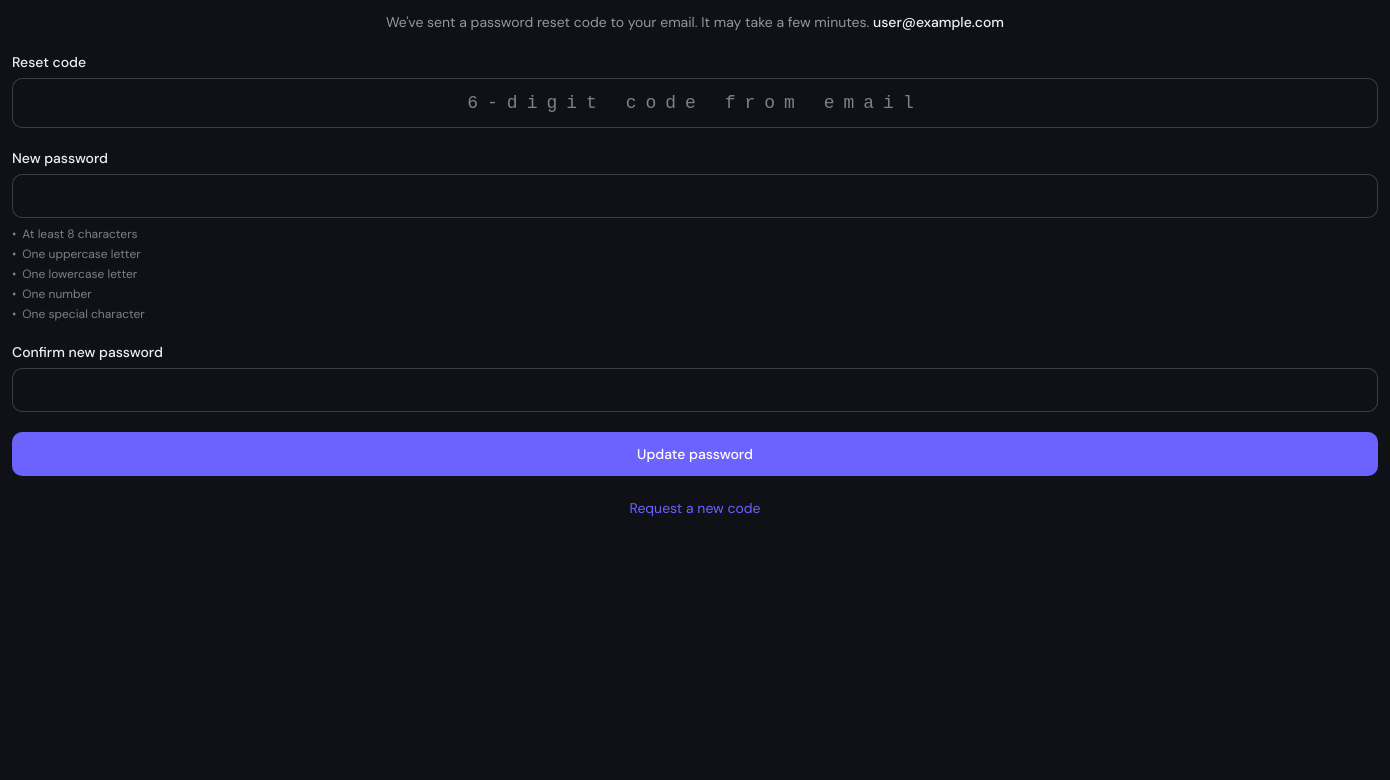
Scenario: ResetPasswordForm › shows client-side error for password mismatch
The width and height of the screenshot is (1390, 780).
Type "123456" into the field labelled "Reset code" at (695, 103), box x1=12 y1=78 x2=1378 y2=128
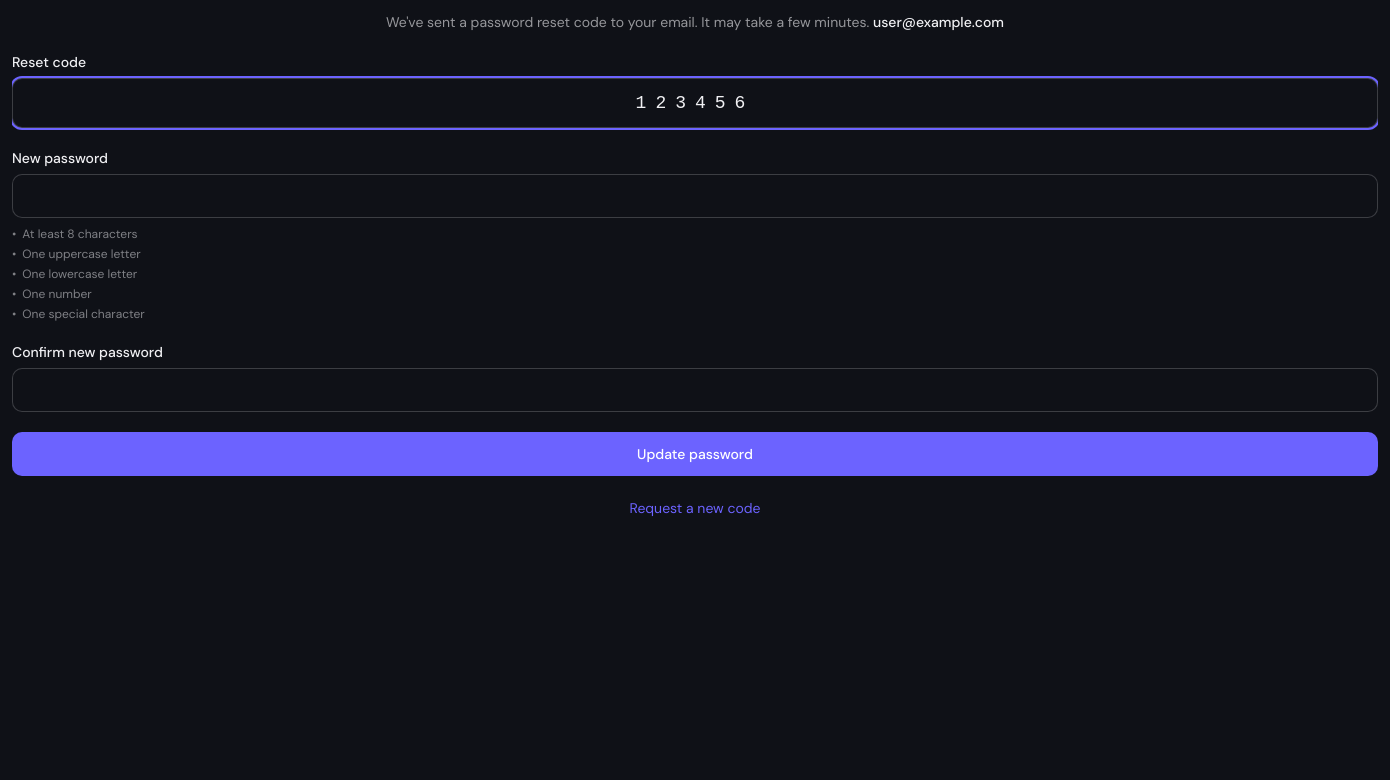
Type "BrandNewPass1!" into the password field labelled "New password" at (695, 196), box x1=12 y1=174 x2=1378 y2=218
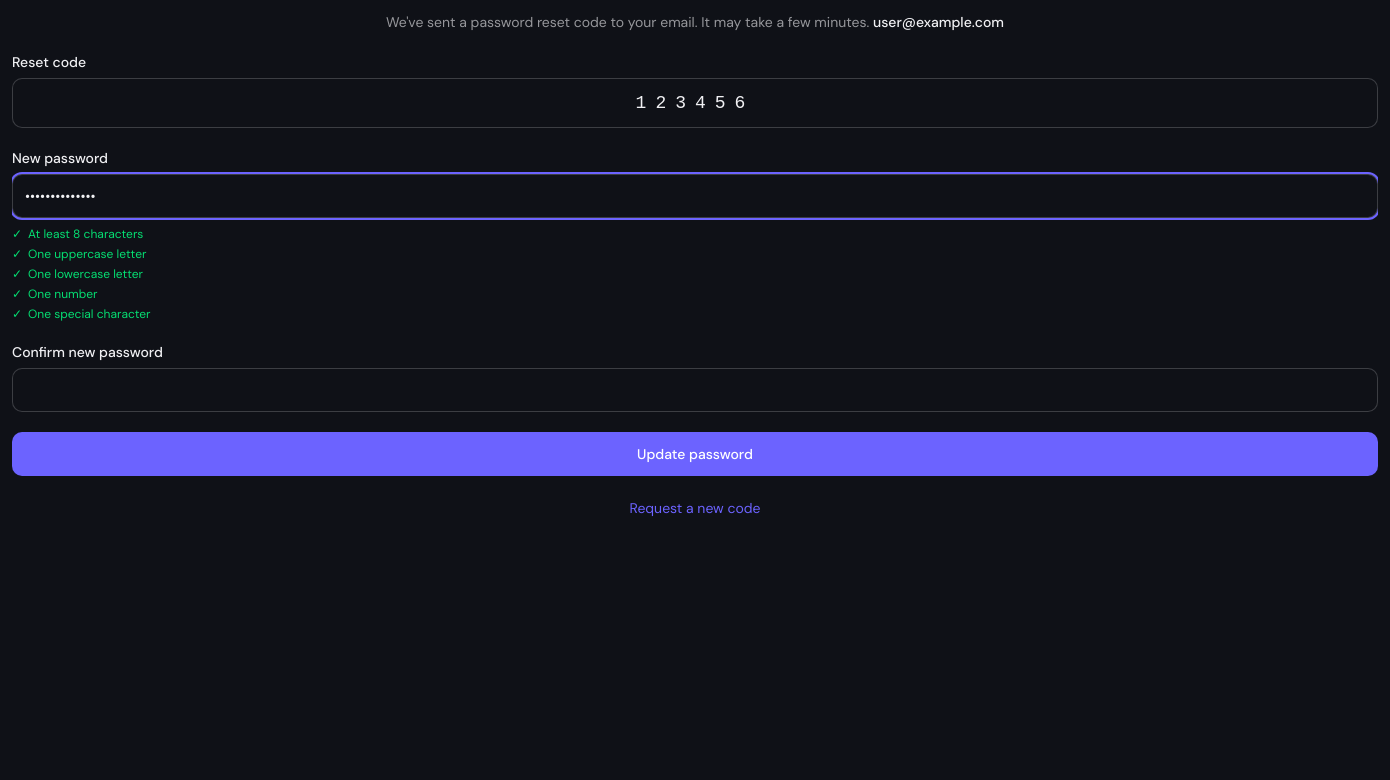
Type "DifferentPass1!" into the password field labelled "Confirm new password" at (695, 390), box x1=12 y1=368 x2=1378 y2=412
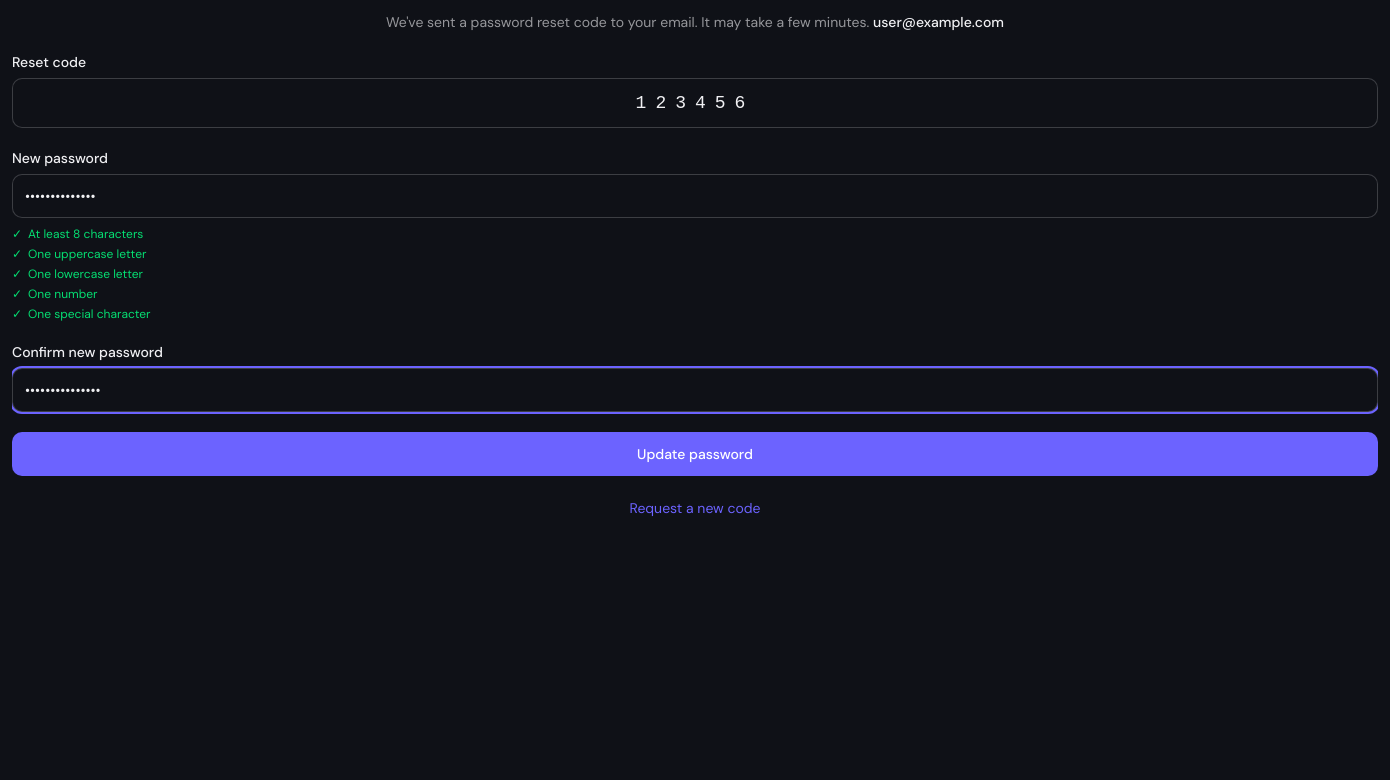
Press Tab
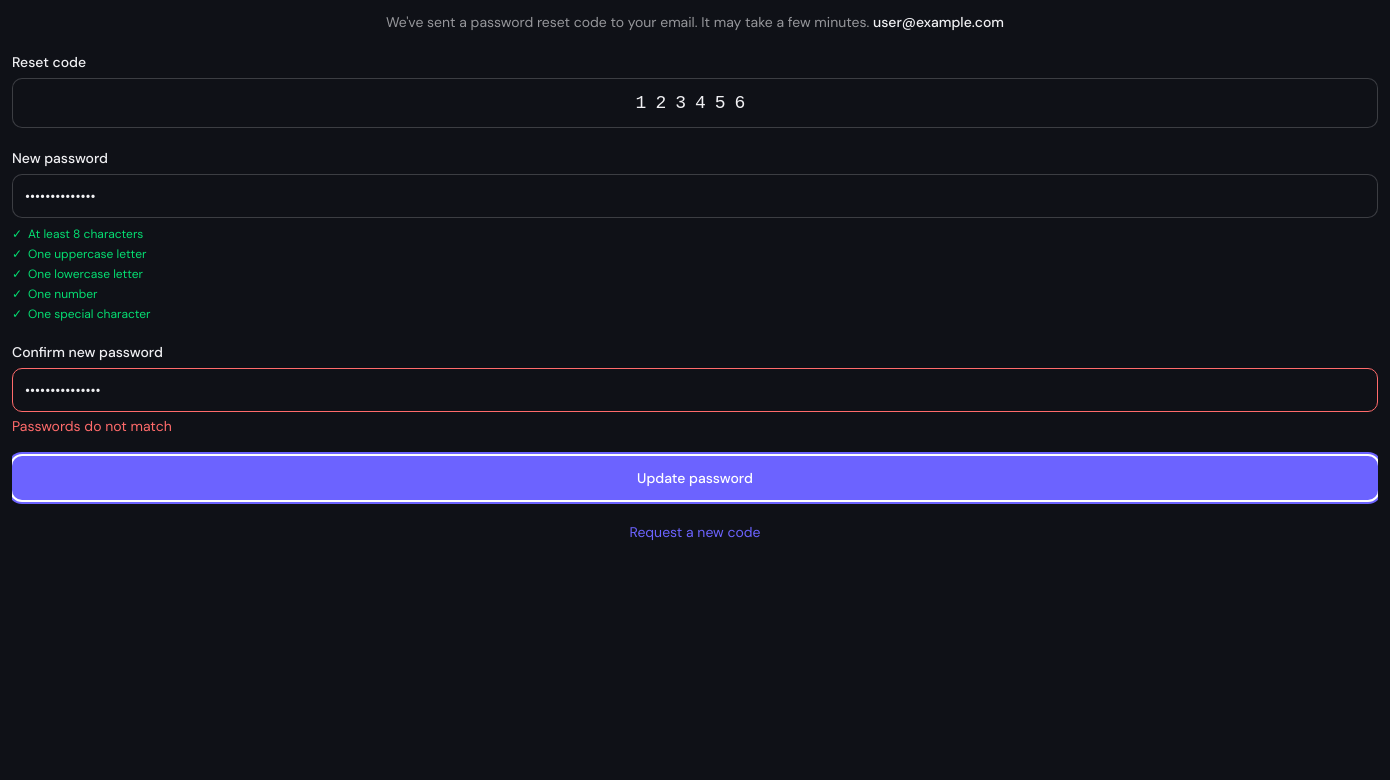
Expected: the text "Passwords do not match" is shown, x1=12 y1=417 x2=172 y2=435
